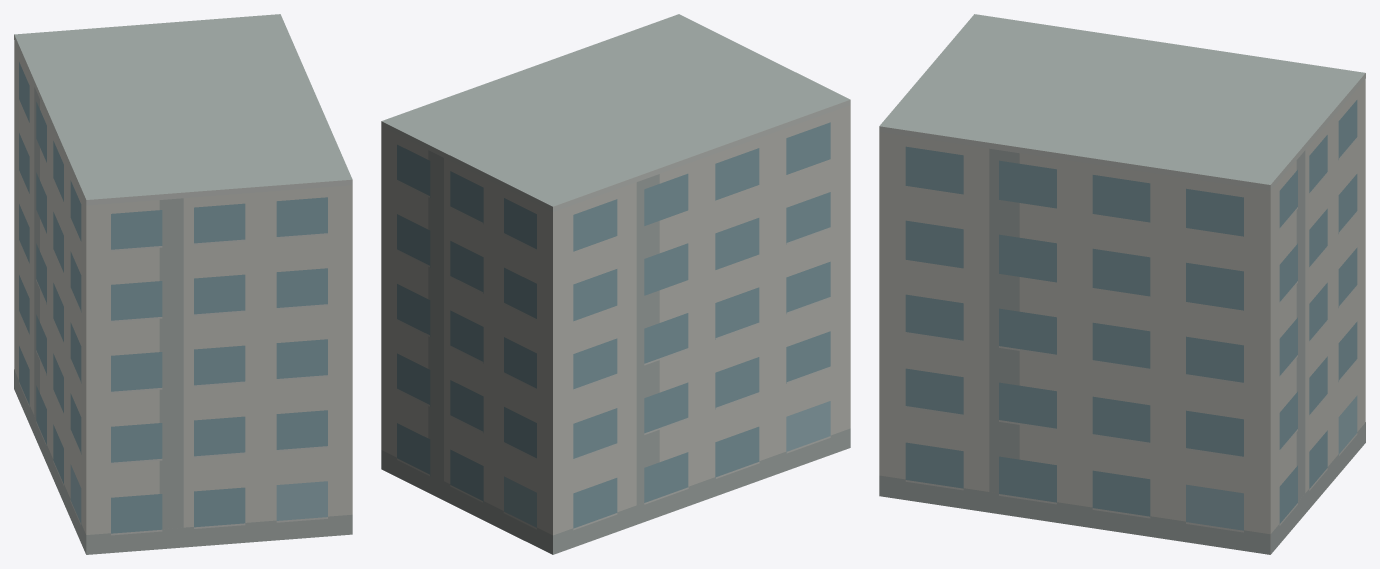
File: survey-upis-32691918.glb
3 views of the same model, side by side, from view 1: azimuth 30°, elevation 25°; view 2: azimuth 150°, elevation 25°; view 3: azimuth 270°, elevation 25° (orthographic). The views are drawn at different scales.
Visible parts, largest first — view 1: survey-upis-32691918.tmp; view 2: survey-upis-32691918.tmp; view 3: survey-upis-32691918.tmp.
Boxes of the visible parts, x1,y1,x2,y2 form: survey-upis-32691918.tmp: [14, 14, 352, 554]; survey-upis-32691918.tmp: [381, 14, 850, 554]; survey-upis-32691918.tmp: [879, 14, 1365, 554].
Size of the model in its own units: 15.13 by 15.25 by 18.19.
